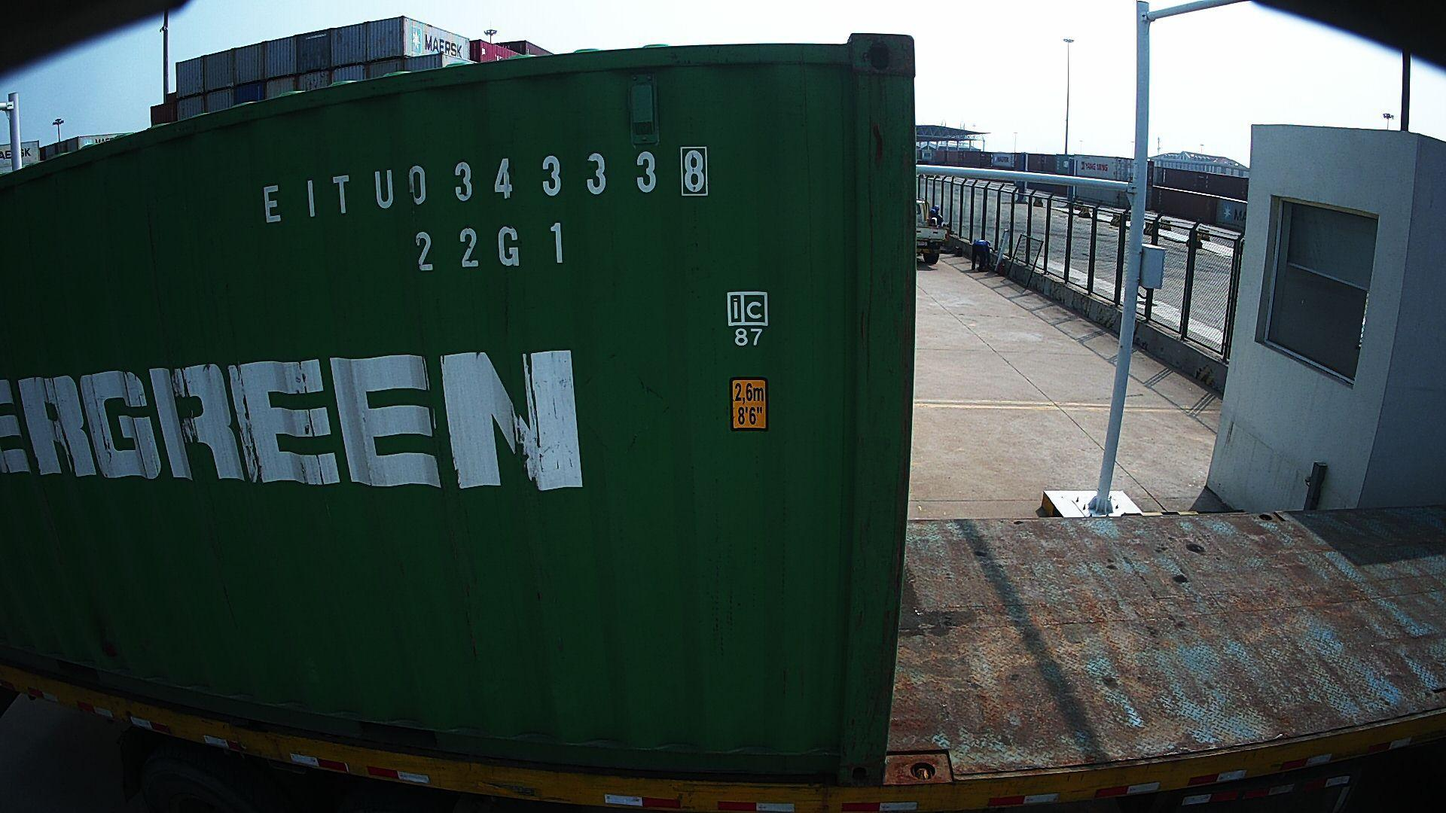container-numbers: (258, 145, 716, 228), (410, 221, 571, 278)
